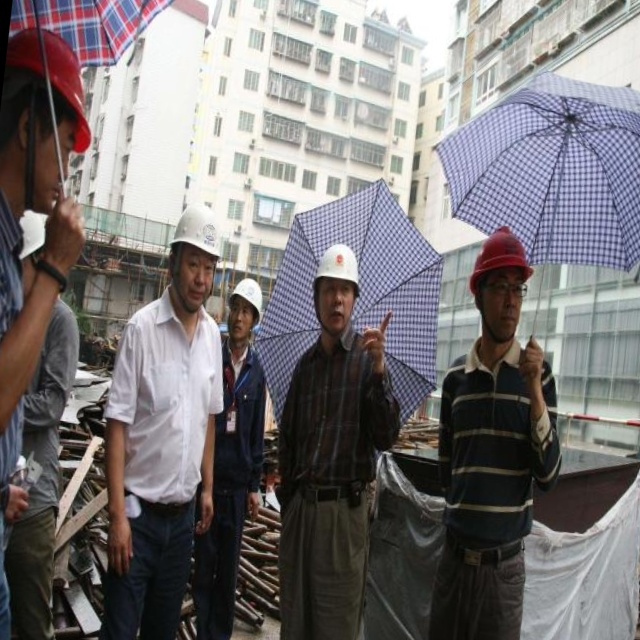Con_Casco: (160, 202, 228, 313), (305, 240, 364, 339)
Sin_Chaleco: (272, 327, 387, 511)
